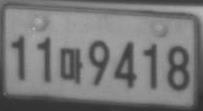1: (139, 42, 164, 89), (8, 35, 32, 82), (33, 36, 57, 83)
4: (113, 40, 138, 88)
8: (166, 45, 191, 91)
9: (86, 40, 111, 86)
마: (59, 46, 83, 84)
